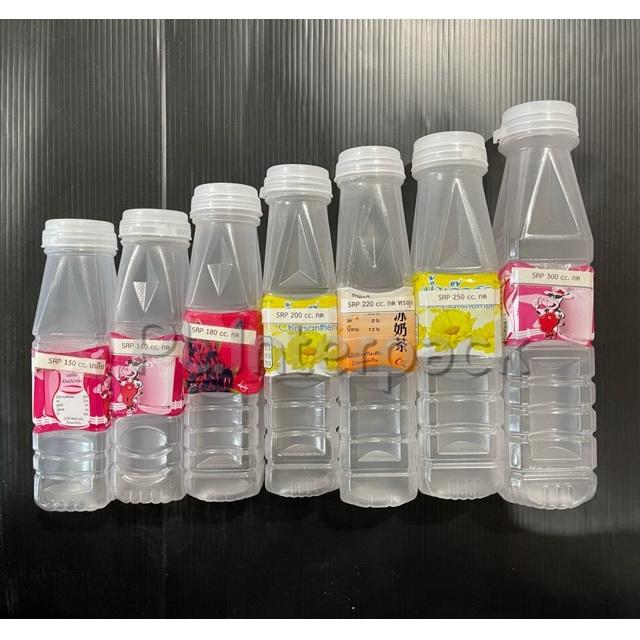Single-Use-Plastic: (494, 100, 596, 509), (411, 131, 502, 499), (335, 146, 418, 507), (260, 164, 339, 497), (184, 182, 264, 501), (32, 219, 118, 511), (111, 209, 191, 503)
